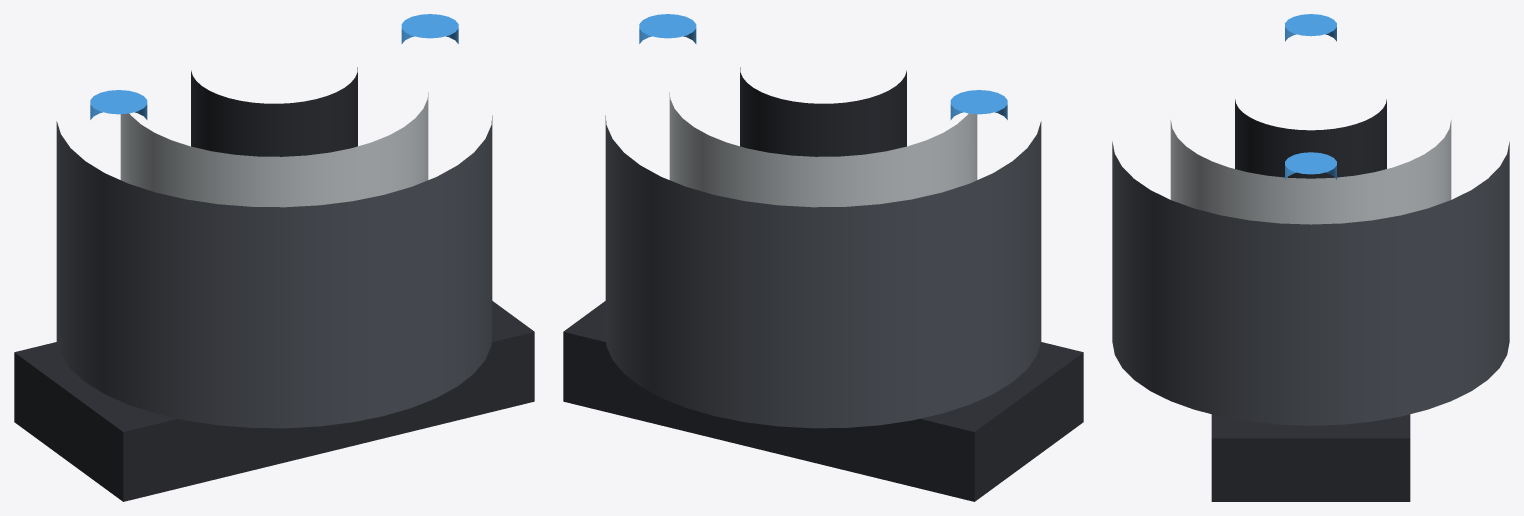
Rendered from echo-shell.glb.
The picture shows the model from 3 angles, left to right: view 1: azimuth 30°, elevation 25°; view 2: azimuth 150°, elevation 25°; view 3: azimuth 270°, elevation 25°; orthographic projection. The views are drawn at different scales.
Visible parts, largest first — view 1: echo-shell free asset preview part 2, echo-shell free asset preview part 1, echo-shell free asset preview part 3, echo-shell free asset preview part 4, echo-shell free asset preview part 6, echo-shell free asset preview part 5; view 2: echo-shell free asset preview part 2, echo-shell free asset preview part 1, echo-shell free asset preview part 3, echo-shell free asset preview part 4, echo-shell free asset preview part 6, echo-shell free asset preview part 5; view 3: echo-shell free asset preview part 2, echo-shell free asset preview part 1, echo-shell free asset preview part 3, echo-shell free asset preview part 4, echo-shell free asset preview part 6, echo-shell free asset preview part 5.
Boxes of the visible parts, left/top/right/bottom form: echo-shell free asset preview part 2: left=56, top=115, right=492, bottom=428; echo-shell free asset preview part 1: left=14, top=301, right=534, bottom=501; echo-shell free asset preview part 3: left=120, top=92, right=428, bottom=207; echo-shell free asset preview part 4: left=191, top=67, right=357, bottom=156; echo-shell free asset preview part 6: left=401, top=14, right=458, bottom=43; echo-shell free asset preview part 5: left=90, top=90, right=147, bottom=119; echo-shell free asset preview part 2: left=605, top=115, right=1041, bottom=428; echo-shell free asset preview part 1: left=563, top=301, right=1083, bottom=501; echo-shell free asset preview part 3: left=669, top=92, right=977, bottom=207; echo-shell free asset preview part 4: left=740, top=67, right=906, bottom=156; echo-shell free asset preview part 6: left=639, top=14, right=696, bottom=43; echo-shell free asset preview part 5: left=950, top=90, right=1007, bottom=119; echo-shell free asset preview part 2: left=1112, top=141, right=1509, bottom=425; echo-shell free asset preview part 1: left=1211, top=414, right=1410, bottom=501; echo-shell free asset preview part 3: left=1170, top=120, right=1451, bottom=224; echo-shell free asset preview part 4: left=1235, top=99, right=1386, bottom=178; echo-shell free asset preview part 6: left=1285, top=152, right=1336, bottom=179; echo-shell free asset preview part 5: left=1285, top=14, right=1336, bottom=41.
Bounding box in the file's own units: 0.74 × 0.5975 × 0.68.
